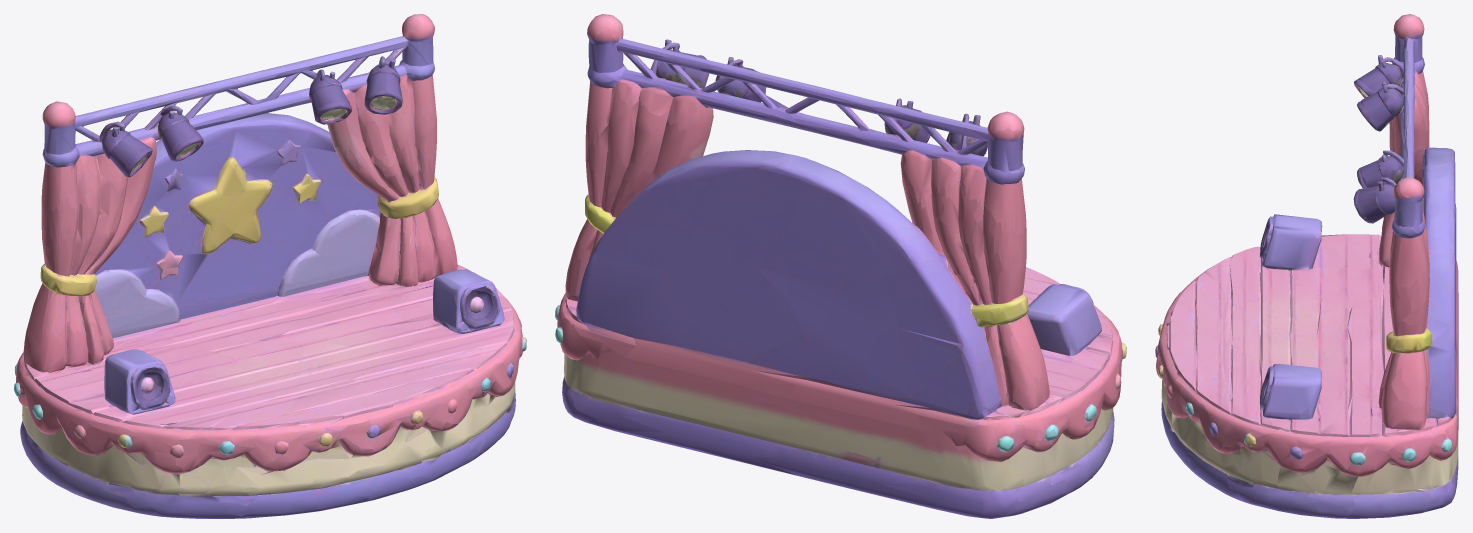
File: hq_stage.glb
3 renders of one model, left to right at view 1: azimuth 30°, elevation 25°; view 2: azimuth 150°, elevation 25°; view 3: azimuth 270°, elevation 25°, orthographic. The views are drawn at different scales.
Bounding box in the file's own units: 1.89 × 1.37 × 1.16.
1 material, 1 textured.
